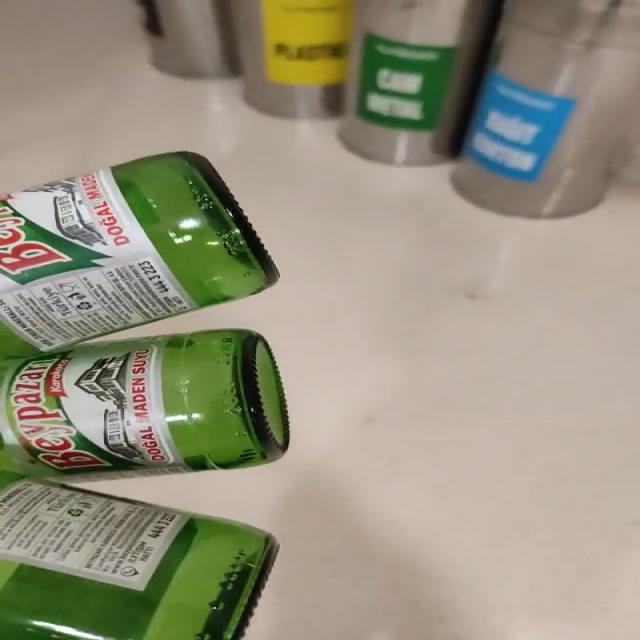glass: (0, 152, 288, 640)
